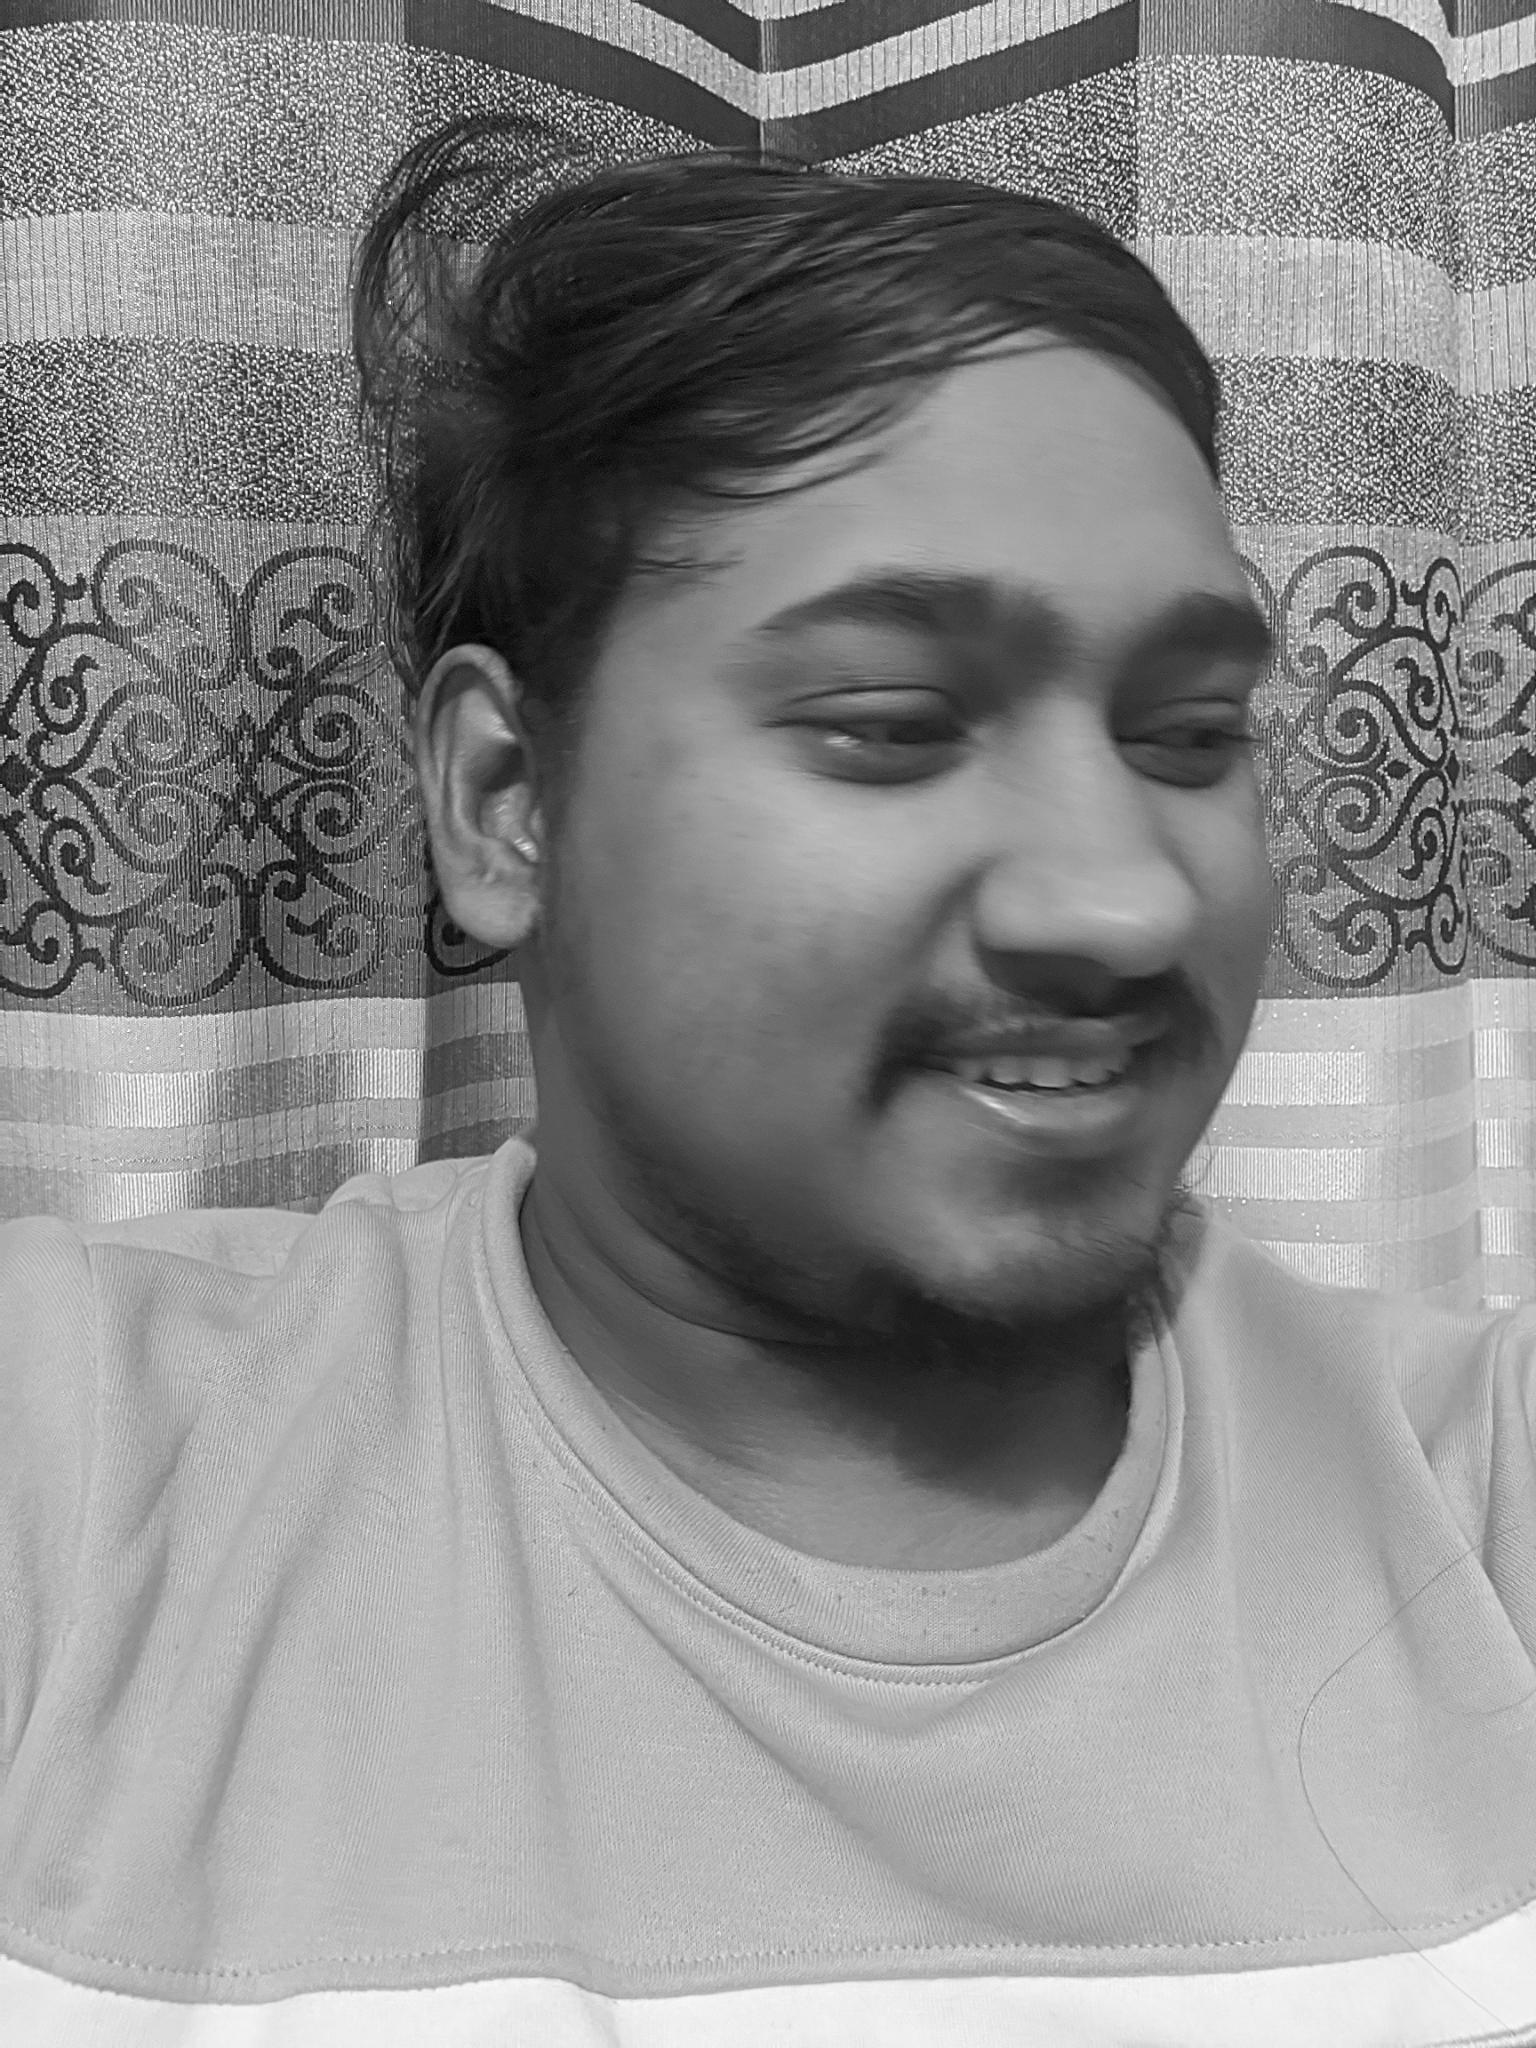Happy: (689, 490, 1300, 1347)
